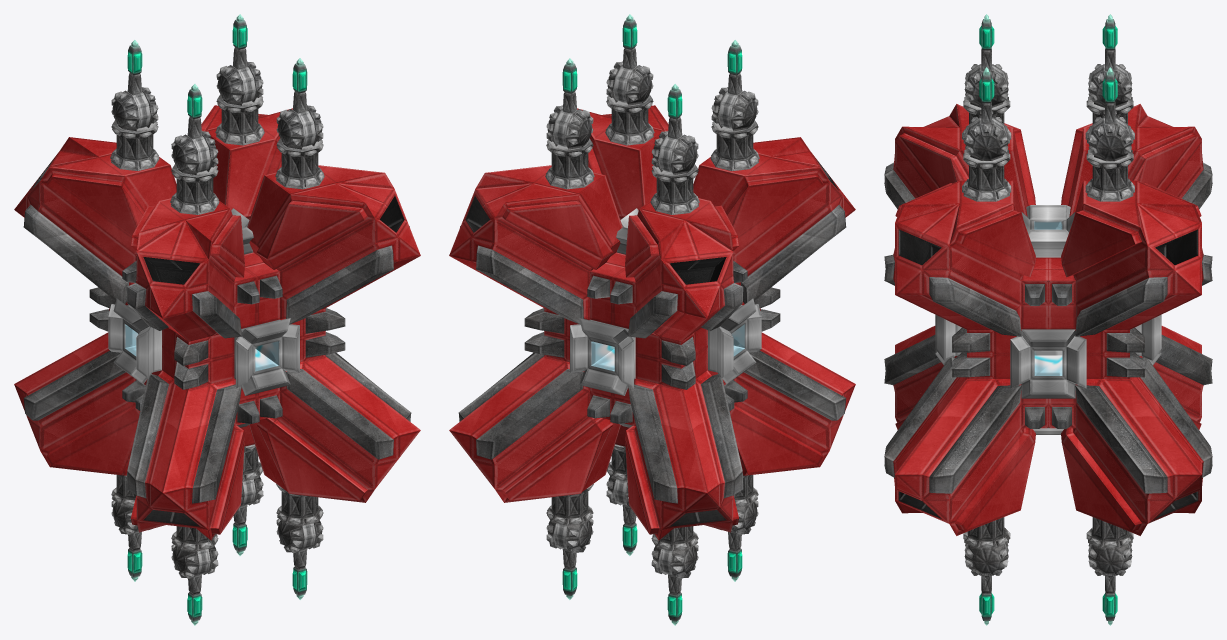
File: CuboDura.FBX
3 renders of one model, left to right at view 1: azimuth 30°, elevation 25°; view 2: azimuth 150°, elevation 25°; view 3: azimuth 270°, elevation 25°, orthographic. The views are drawn at different scales.
Visible parts, largest first — view 1: Box003, Box005, Box007, Box004, Box001, Box006, Box002, Box009, Box013, Group004, Group002, Group003 (+19 smaller); view 2: Box002, Box006, Box008, Box001, Box004, Box005, Box003, Box012, Box013, Group003, Group001, Group002 (+19 smaller); view 3: Box008, Box007, Box002, Box003, Box001, Box004, Box011, Box006, Box005, Box015, Group004, Group001 (+16 smaller).
Part boxes in pixels (left/top/right/bottom): Box003: left=244, top=165, right=420, bottom=338; Box005: left=126, top=346, right=259, bottom=540; Box007: left=249, top=332, right=420, bottom=502; Box004: left=126, top=198, right=259, bottom=365; Box001: left=14, top=137, right=176, bottom=308; Box006: left=14, top=308, right=147, bottom=475; Box002: left=201, top=105, right=292, bottom=219; Box009: left=234, top=318, right=299, bottom=395; Box013: left=108, top=298, right=161, bottom=384; Group004: left=275, top=142, right=324, bottom=189; Group002: left=110, top=124, right=159, bottom=170; Group003: left=170, top=168, right=219, bottom=214; Box002: left=449, top=165, right=625, bottom=338; Box006: left=610, top=346, right=743, bottom=540; Box008: left=449, top=332, right=620, bottom=502; Box001: left=610, top=198, right=743, bottom=365; Box004: left=693, top=137, right=855, bottom=308; Box005: left=722, top=308, right=855, bottom=475; Box003: left=577, top=105, right=668, bottom=219; Box012: left=570, top=318, right=635, bottom=395; Box013: left=708, top=298, right=761, bottom=384; Group003: left=710, top=124, right=759, bottom=171; Group001: left=545, top=142, right=594, bottom=189; Group002: left=650, top=168, right=699, bottom=214; Box008: left=1048, top=352, right=1212, bottom=535; Box007: left=884, top=352, right=1048, bottom=535; Box002: left=1048, top=180, right=1212, bottom=354; Box003: left=884, top=180, right=1048, bottom=354; Box001: left=1061, top=104, right=1212, bottom=216; Box004: left=884, top=104, right=1035, bottom=216; Box011: left=1010, top=329, right=1086, bottom=398; Box006: left=1139, top=326, right=1212, bottom=429; Box005: left=884, top=326, right=957, bottom=429; Box015: left=1021, top=205, right=1075, bottom=257; Group004: left=962, top=153, right=1011, bottom=201; Group001: left=1085, top=153, right=1134, bottom=201.
Bounding box in the file's own units: 158 × 298 × 158.
